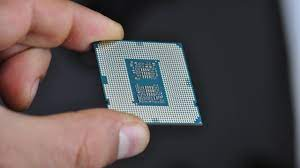processor: (92, 40, 203, 127)
